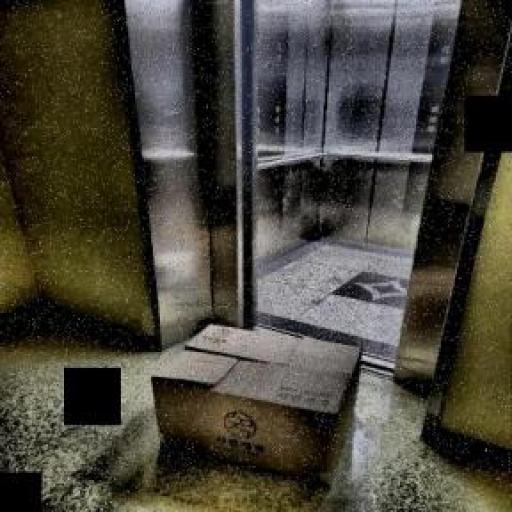box: (142, 306, 380, 498)
